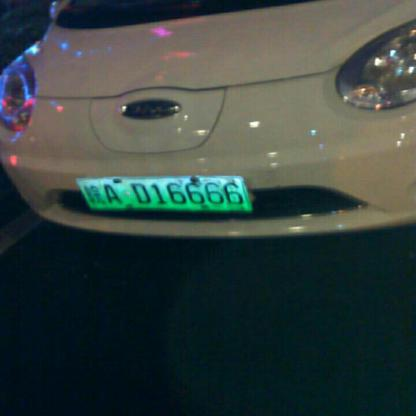lp: (76, 177, 252, 210)
